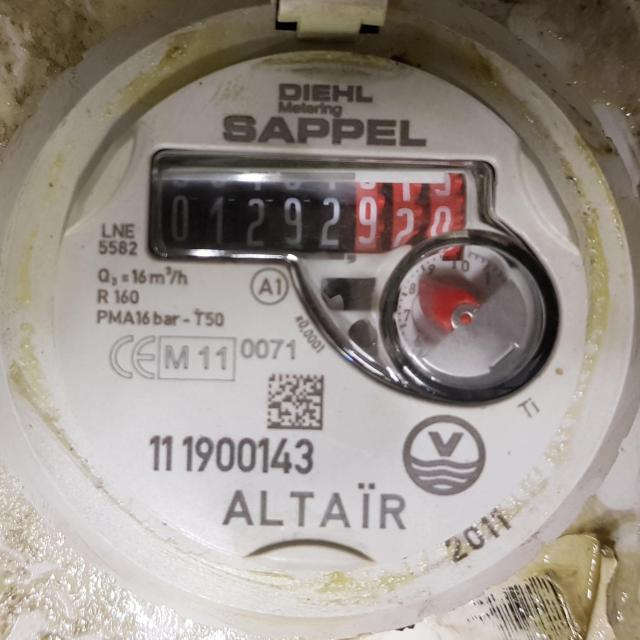gaz_meter: (56, 48, 591, 568)
indication: (161, 168, 469, 251)
